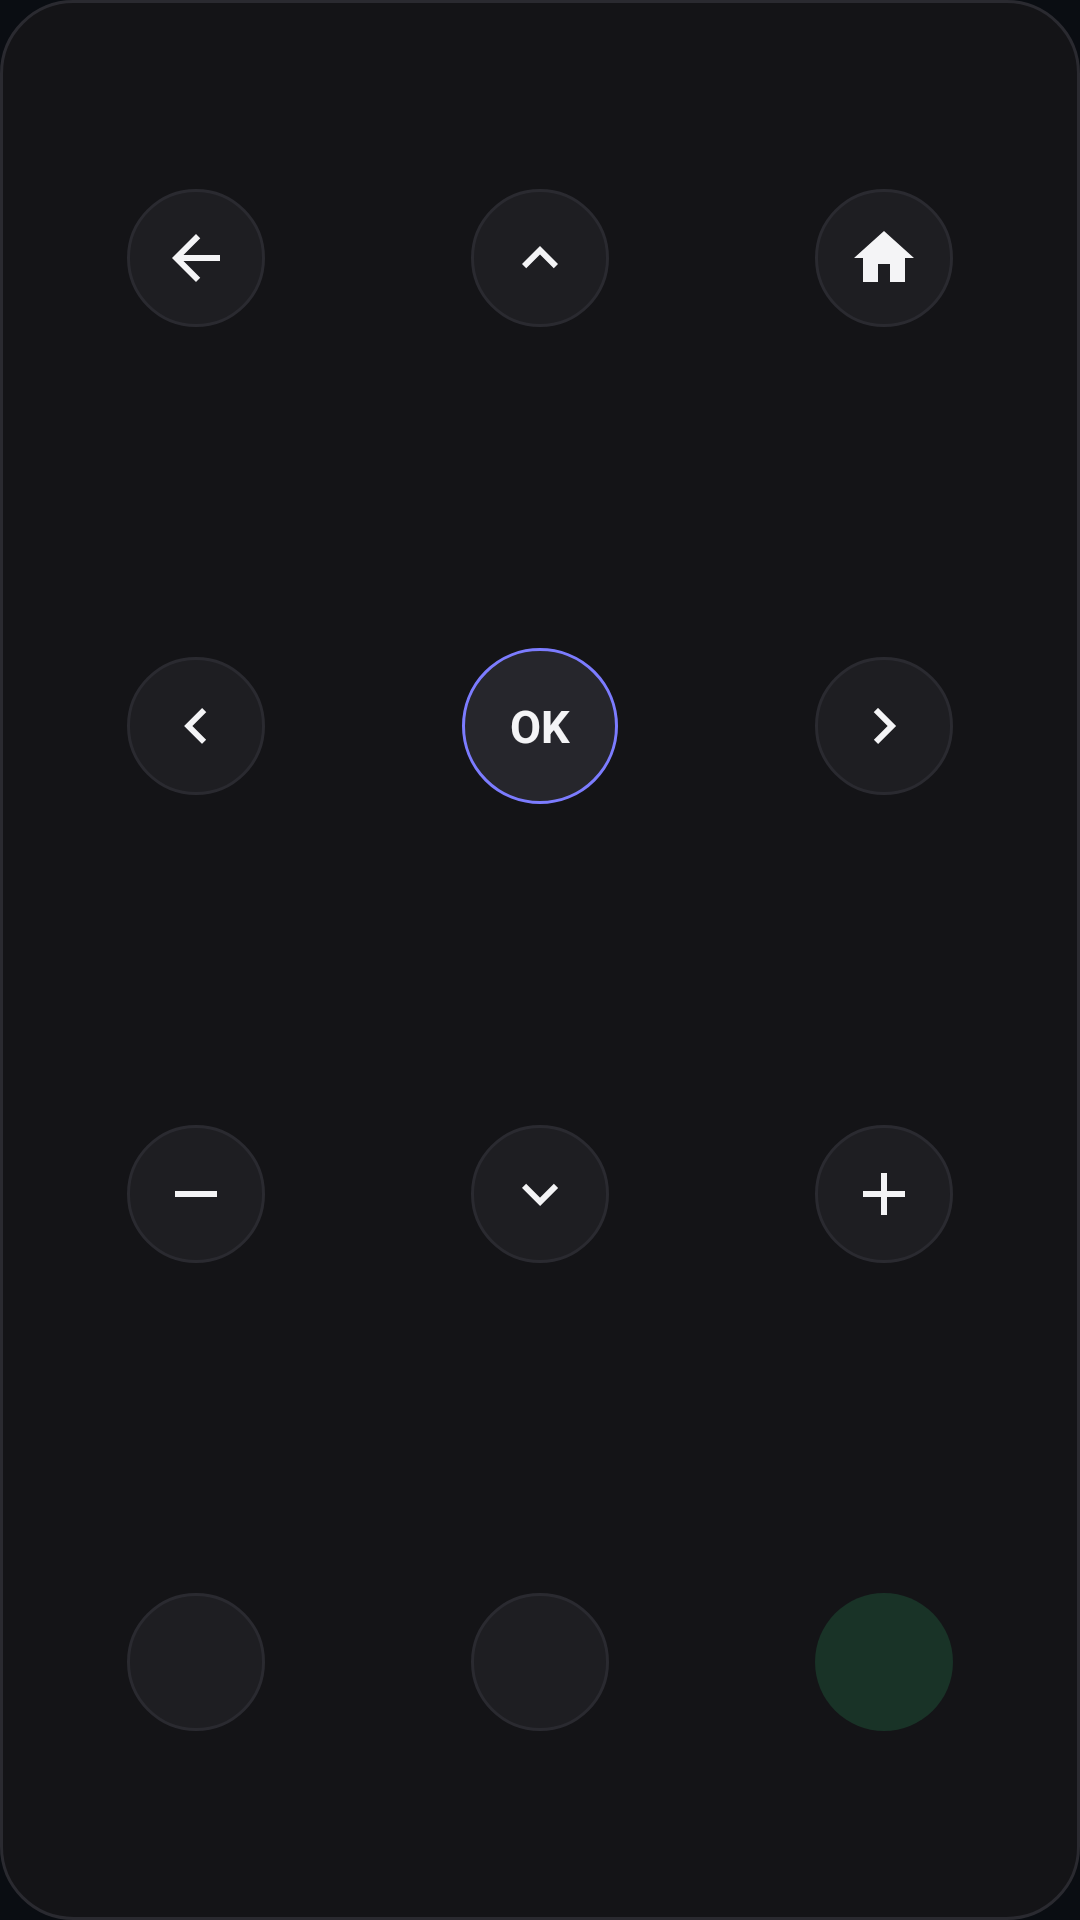

Screen size 1080×1920. Icon name, then its box in pixels as (x1,y1,x2,y2):
Back: (127,189,265,327)
Down: (471,1125,609,1263)
Home: (815,189,953,327)
Left: (127,657,265,795)
Right: (815,657,953,795)
Up: (471,189,609,327)
Volume down: (127,1125,265,1263)
Volume up: (815,1125,953,1263)
